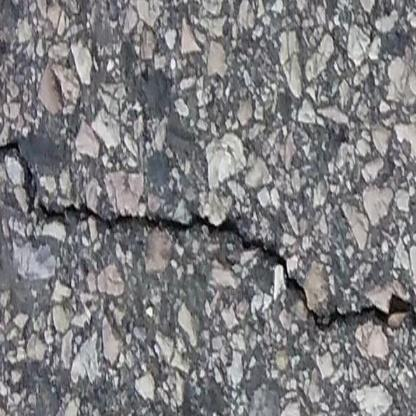Cracks: (0, 136, 416, 339)
